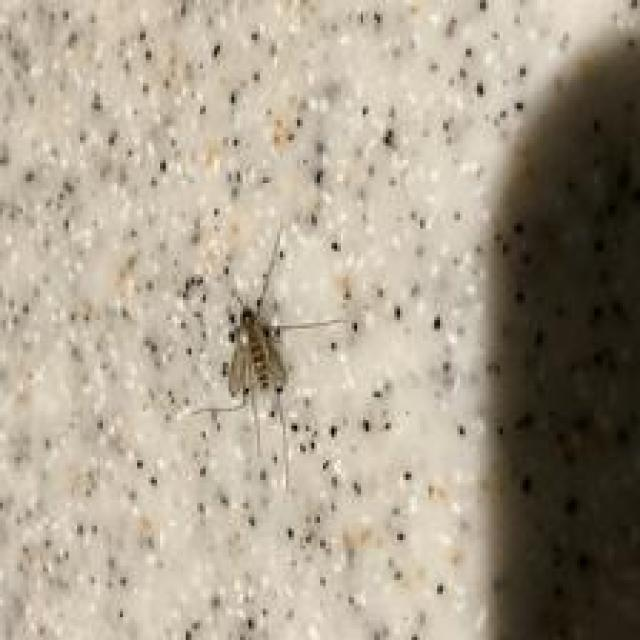Culex: (183, 226, 351, 491)
